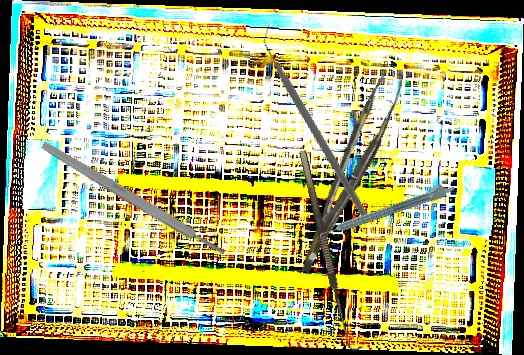Chopper: (207, 23, 430, 224)
Handpiece: (316, 178, 456, 240)
Hook Surgical: (299, 147, 363, 353)
Scalpel Handle: (39, 139, 228, 259)
Tissue Forceps: (277, 70, 416, 274)
